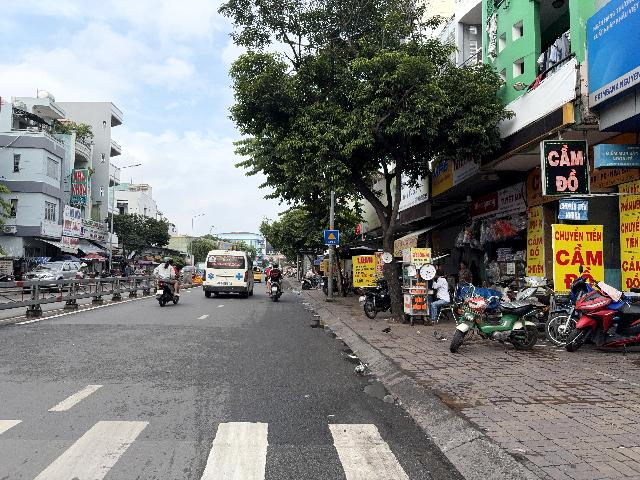khu-vuc-cho-phia-truoc: (324, 230, 339, 245)
